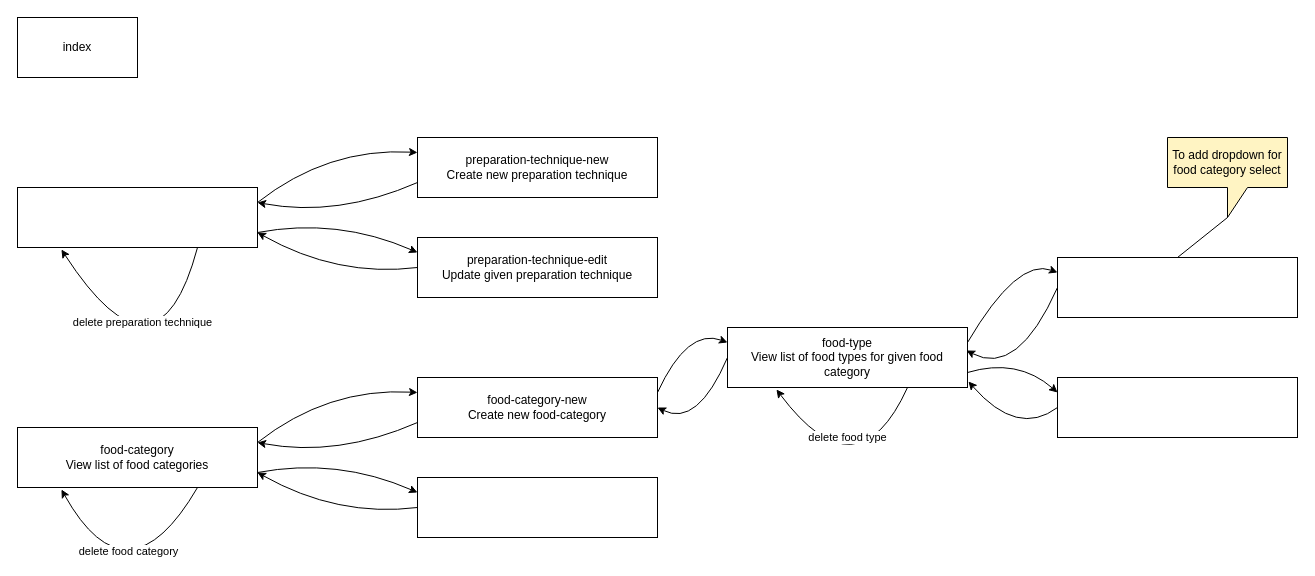
Some shapes in this 1315 by 576 pixel diagram are drawn without their labels. The shapes that lost their labels are listed below. From the top down, each one's box as (x1, y1, x2, y2) in pixels, then its label:
(16, 186, 258, 248): preparation-technique View list of preparation techniques
(1056, 256, 1298, 318): food-type-new Create new food type for given food category
(1056, 376, 1298, 438): food-type-edit Update given food type
(416, 476, 658, 538): food-category-edit Update given food category
